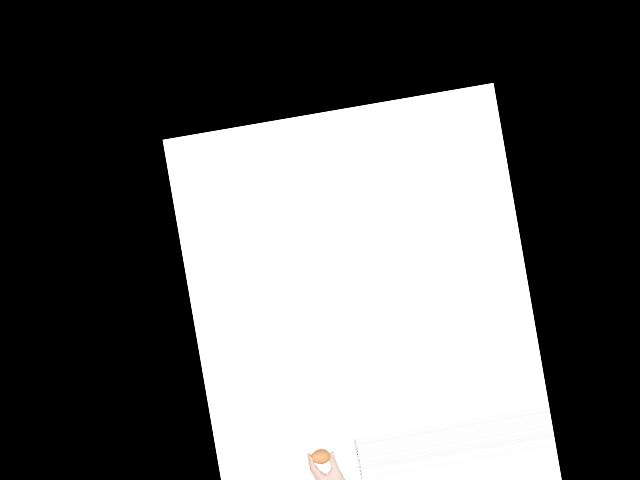egg: (309, 447, 332, 465)
